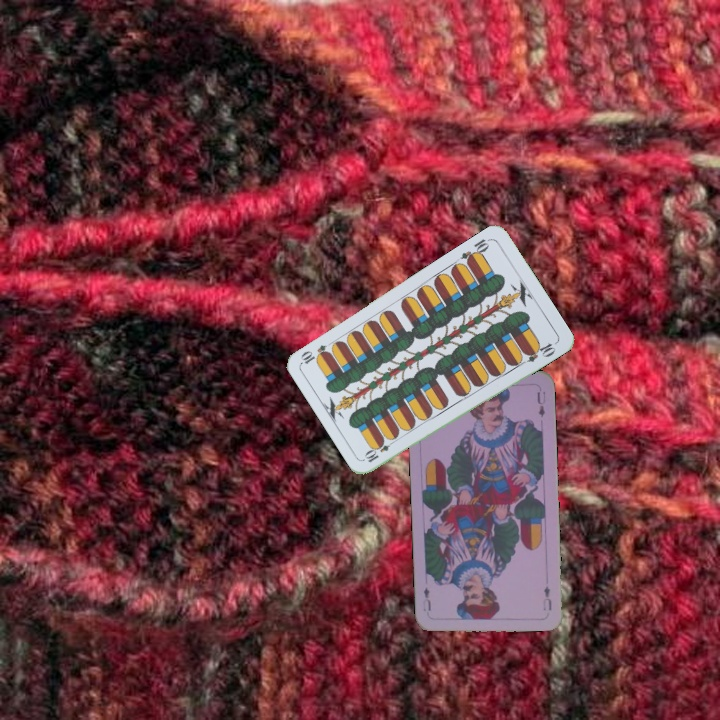E10: (457, 235, 493, 267), (361, 435, 398, 465)
EU: (539, 582, 554, 613)
